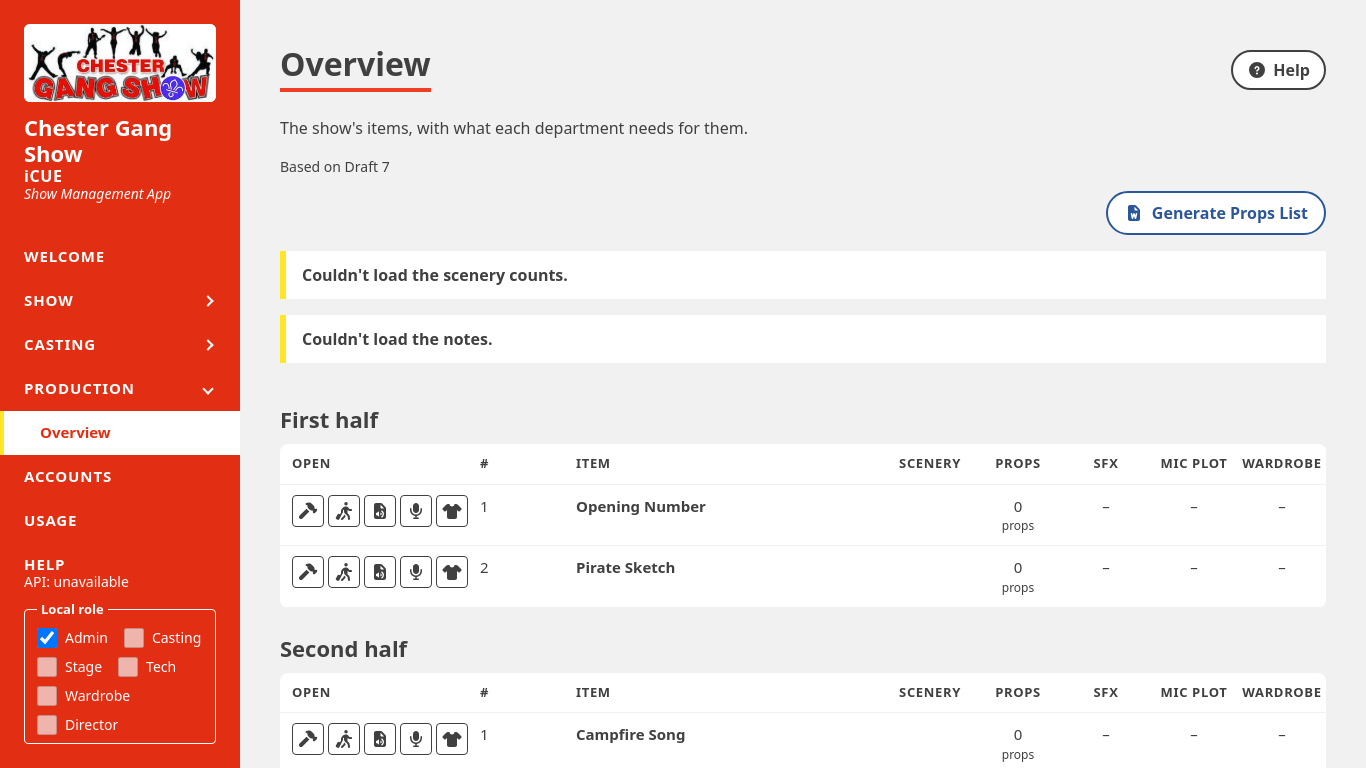
it: An item's props page › opens from the Overview, showing the item's name, position and a tab named for it
This screenshot has width=1366, height=768.
Click the link named "Edit props for Pirate Sketch" at (344,572), box top-left (328, 556), bottom-right (360, 588)
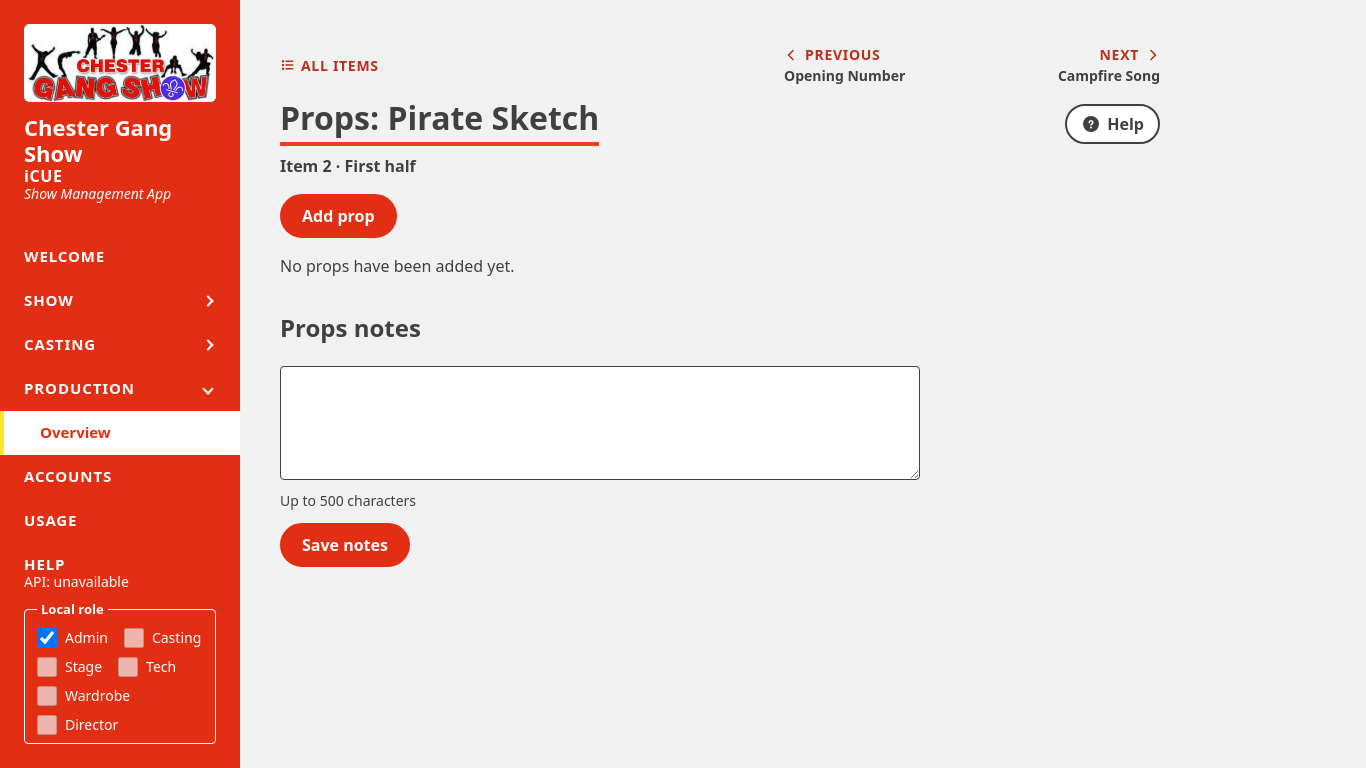
expect the heading "Props: Pirate Sketch" is shown: met, box top-left (280, 94), bottom-right (599, 146)
expect the text with test id "position" reads "Item 2 · First half": met, box top-left (280, 155), bottom-right (416, 177)
